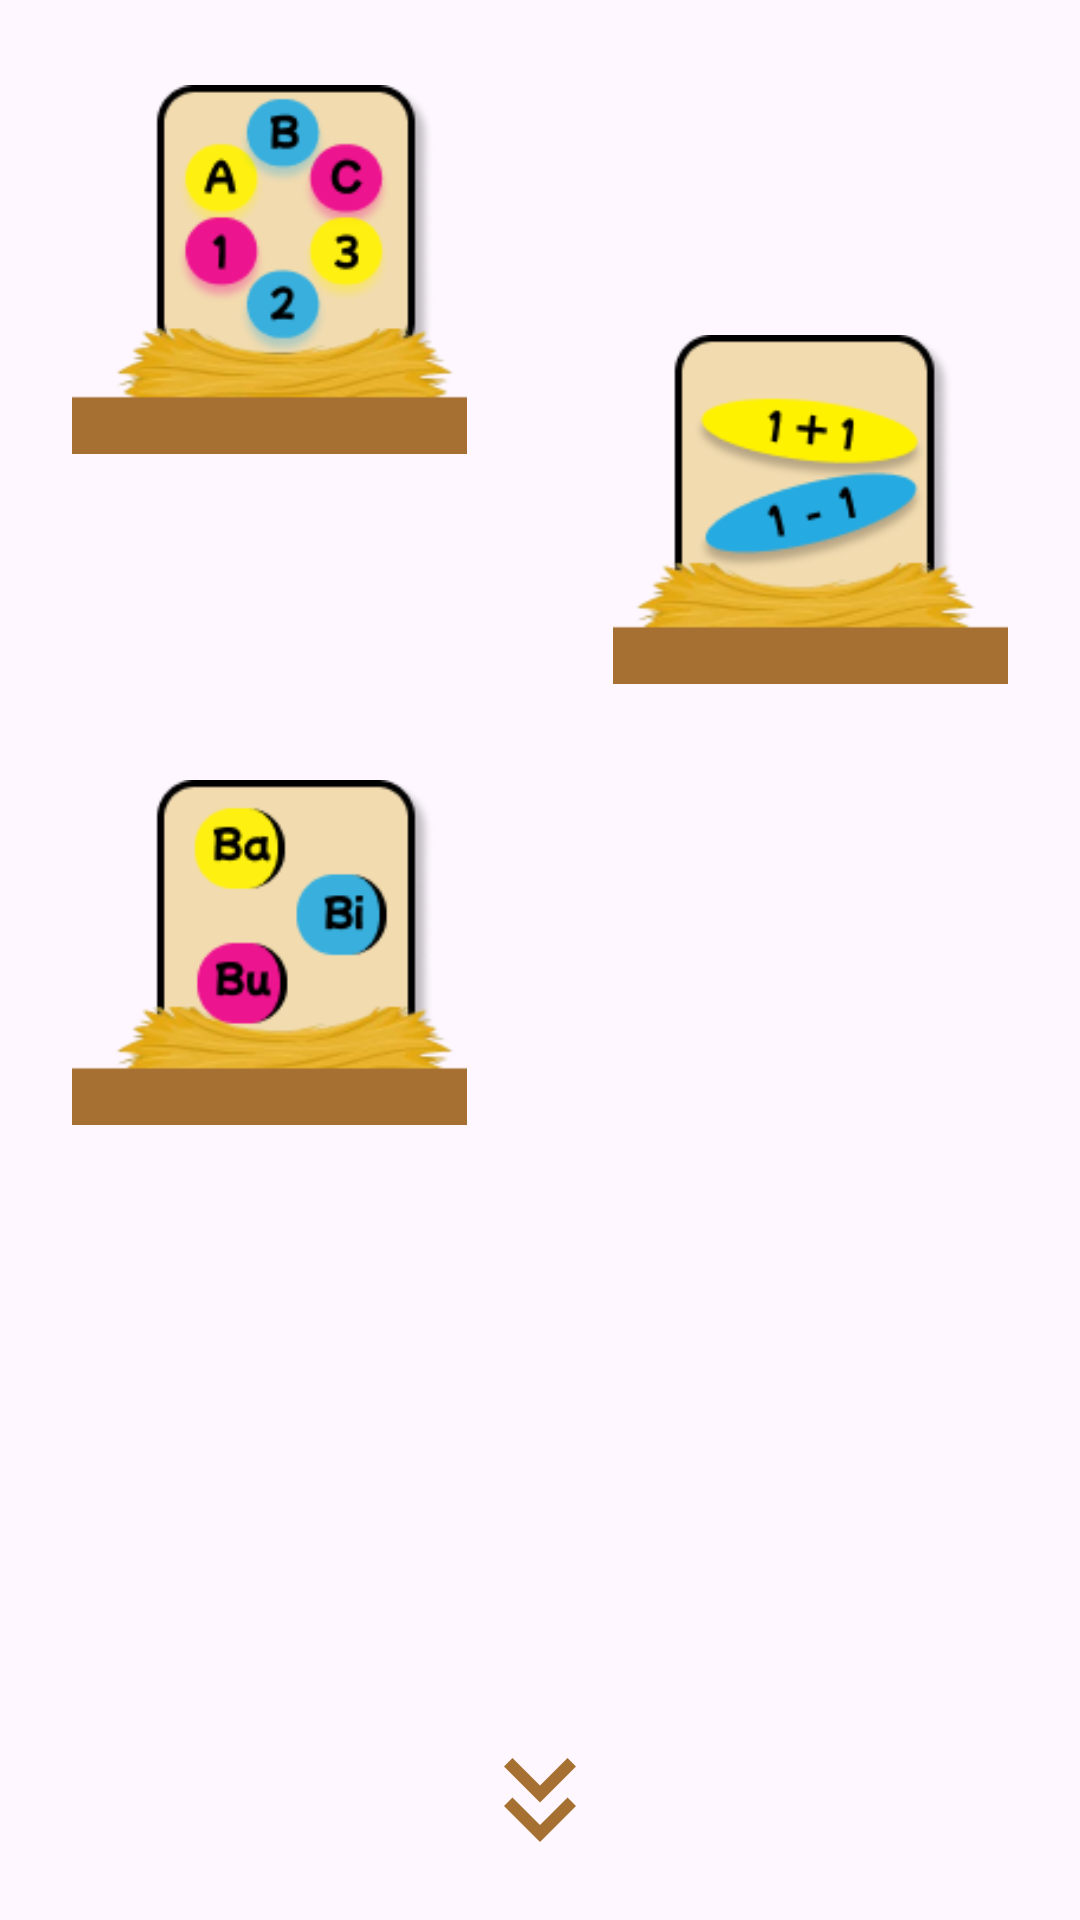

Screen size 1080*1920. Icon name, then its center in pixels as (x,y):
scroll down: (540,1800)
